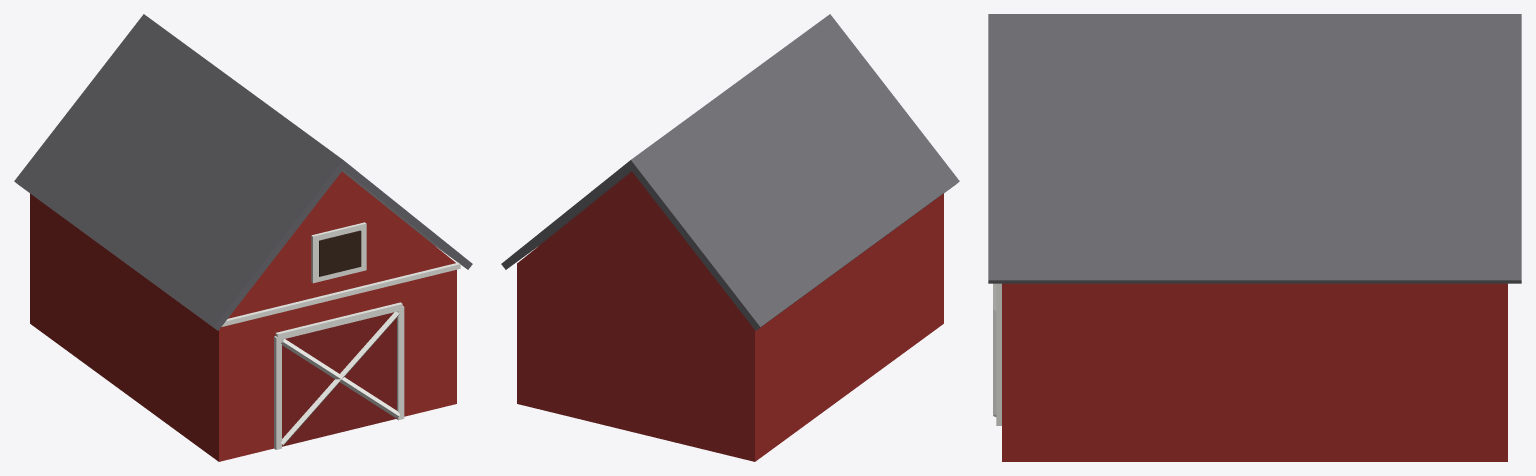
Rendered from Barn.fbx.
The picture shows the model from 3 angles, left to right: view 1: azimuth 30°, elevation 25°; view 2: azimuth 150°, elevation 25°; view 3: azimuth 270°, elevation 25°; orthographic projection. The views are drawn at different scales.
Visible parts, largest first — view 1: Roof, Walls, Doors, Trim, Loft; view 2: Walls, Roof; view 3: Roof, Walls, Trim.
Part boxes in pixels (x1,y1,x2,y2): Roof: (14, 14, 472, 330); Walls: (30, 171, 456, 461); Doors: (282, 312, 396, 446); Trim: (221, 222, 460, 449); Loft: (319, 230, 361, 276); Walls: (517, 171, 943, 461); Roof: (501, 14, 959, 330); Roof: (988, 14, 1521, 283); Walls: (1002, 283, 1507, 461); Trim: (993, 283, 1001, 425).
Bounding box in the file's own units: 17.43 × 17.76 × 23.2.
